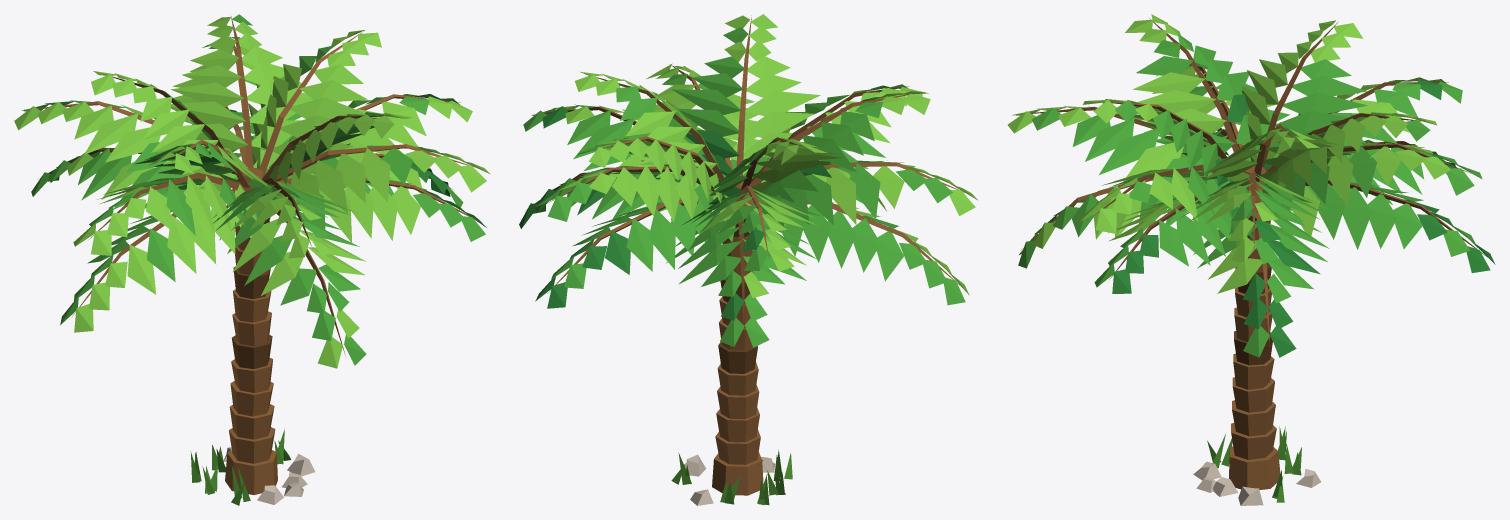
Rendered from palm_bloom.glb.
The picture shows the model from 3 angles, left to right: view 1: azimuth 30°, elevation 25°; view 2: azimuth 150°, elevation 25°; view 3: azimuth 270°, elevation 25°; orthographic projection. The views are drawn at different scales.
Visible parts, largest first — view 1: palm_bloom; view 2: palm_bloom; view 3: palm_bloom.
Boxes of the visible parts, x1=… form: palm_bloom: x1=14, y1=14, x2=490, y2=505; palm_bloom: x1=519, y1=14, x2=977, y2=505; palm_bloom: x1=1007, y1=14, x2=1495, y2=505.
Bounding box in the file's own units: 6.86 × 6.26 × 6.74.
